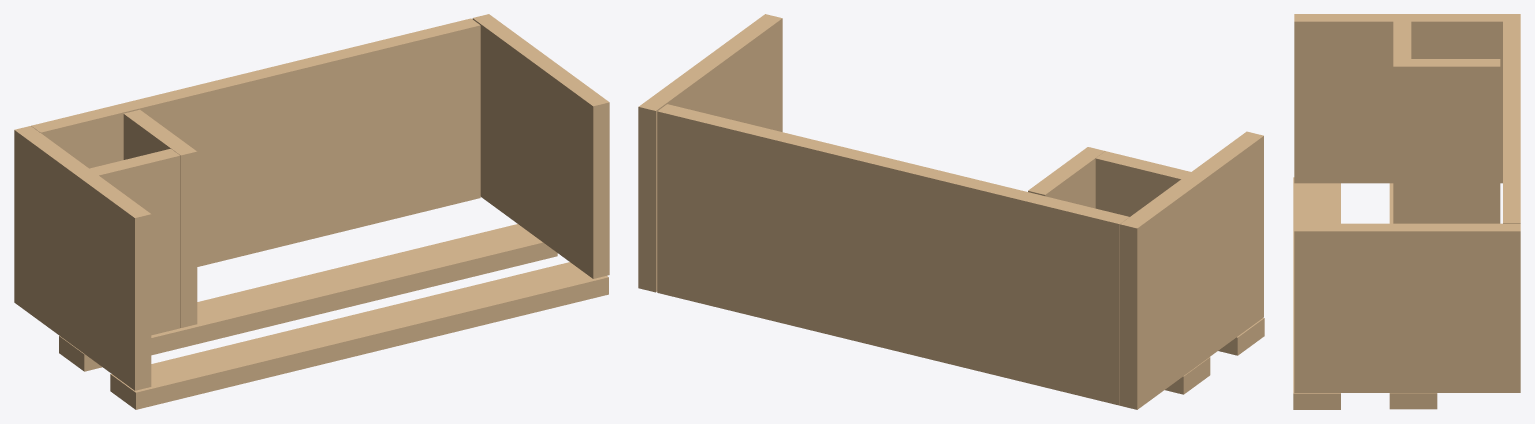
The model's file is tinker.obj.
The picture shows the model from 3 angles, left to right: view 1: azimuth 30°, elevation 25°; view 2: azimuth 150°, elevation 25°; view 3: azimuth 270°, elevation 25°; orthographic projection. The views are drawn at different scales.
Parts seen in each view (by area): view 1: obj_0; view 2: obj_0; view 3: obj_0.
Part boxes in pixels (box(x1,y1,x2,y2)): obj_0: box(14, 14, 609, 409); obj_0: box(638, 14, 1264, 409); obj_0: box(1293, 14, 1520, 409).
Size of the model in its own units: 432 by 166 by 191.
